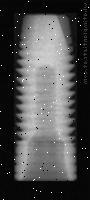OsseoLink: (14, 13, 77, 181)
